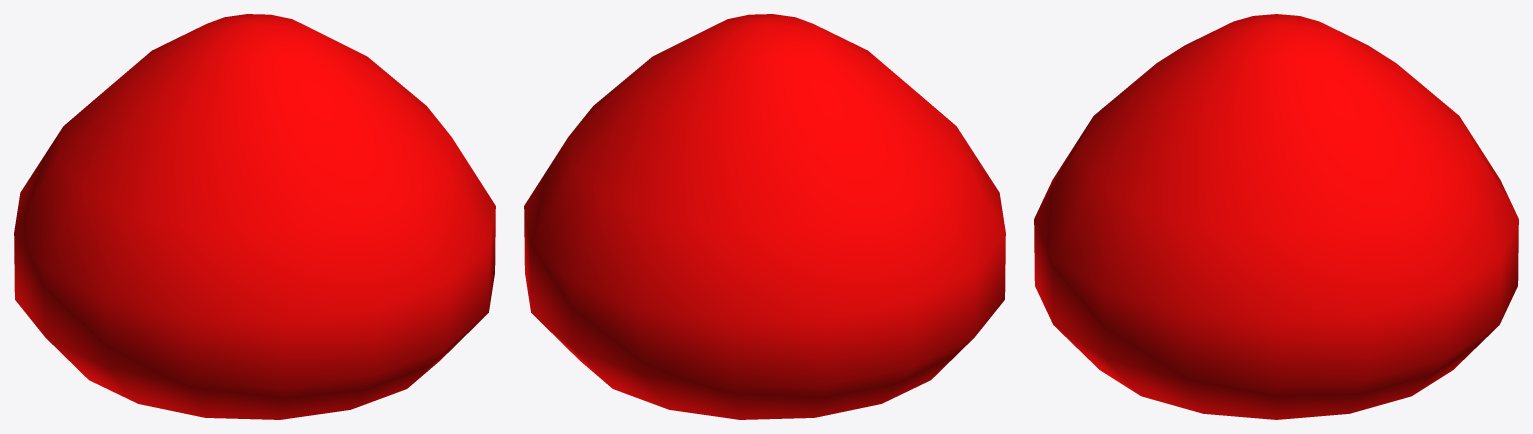
The model's file is enemy_01.FBX.
The picture shows the model from 3 angles, left to right: view 1: azimuth 30°, elevation 25°; view 2: azimuth 150°, elevation 25°; view 3: azimuth 270°, elevation 25°; orthographic projection.
Parts seen in each view (by area): view 1: Sphere001; view 2: Sphere001; view 3: Sphere001.
Part boxes in pixels (bbox=[...]): Sphere001: bbox=[14, 14, 495, 419]; Sphere001: bbox=[524, 14, 1005, 419]; Sphere001: bbox=[1034, 14, 1518, 419].
Size of the model in its own units: 0.8362 by 0.6864 by 0.8362.
